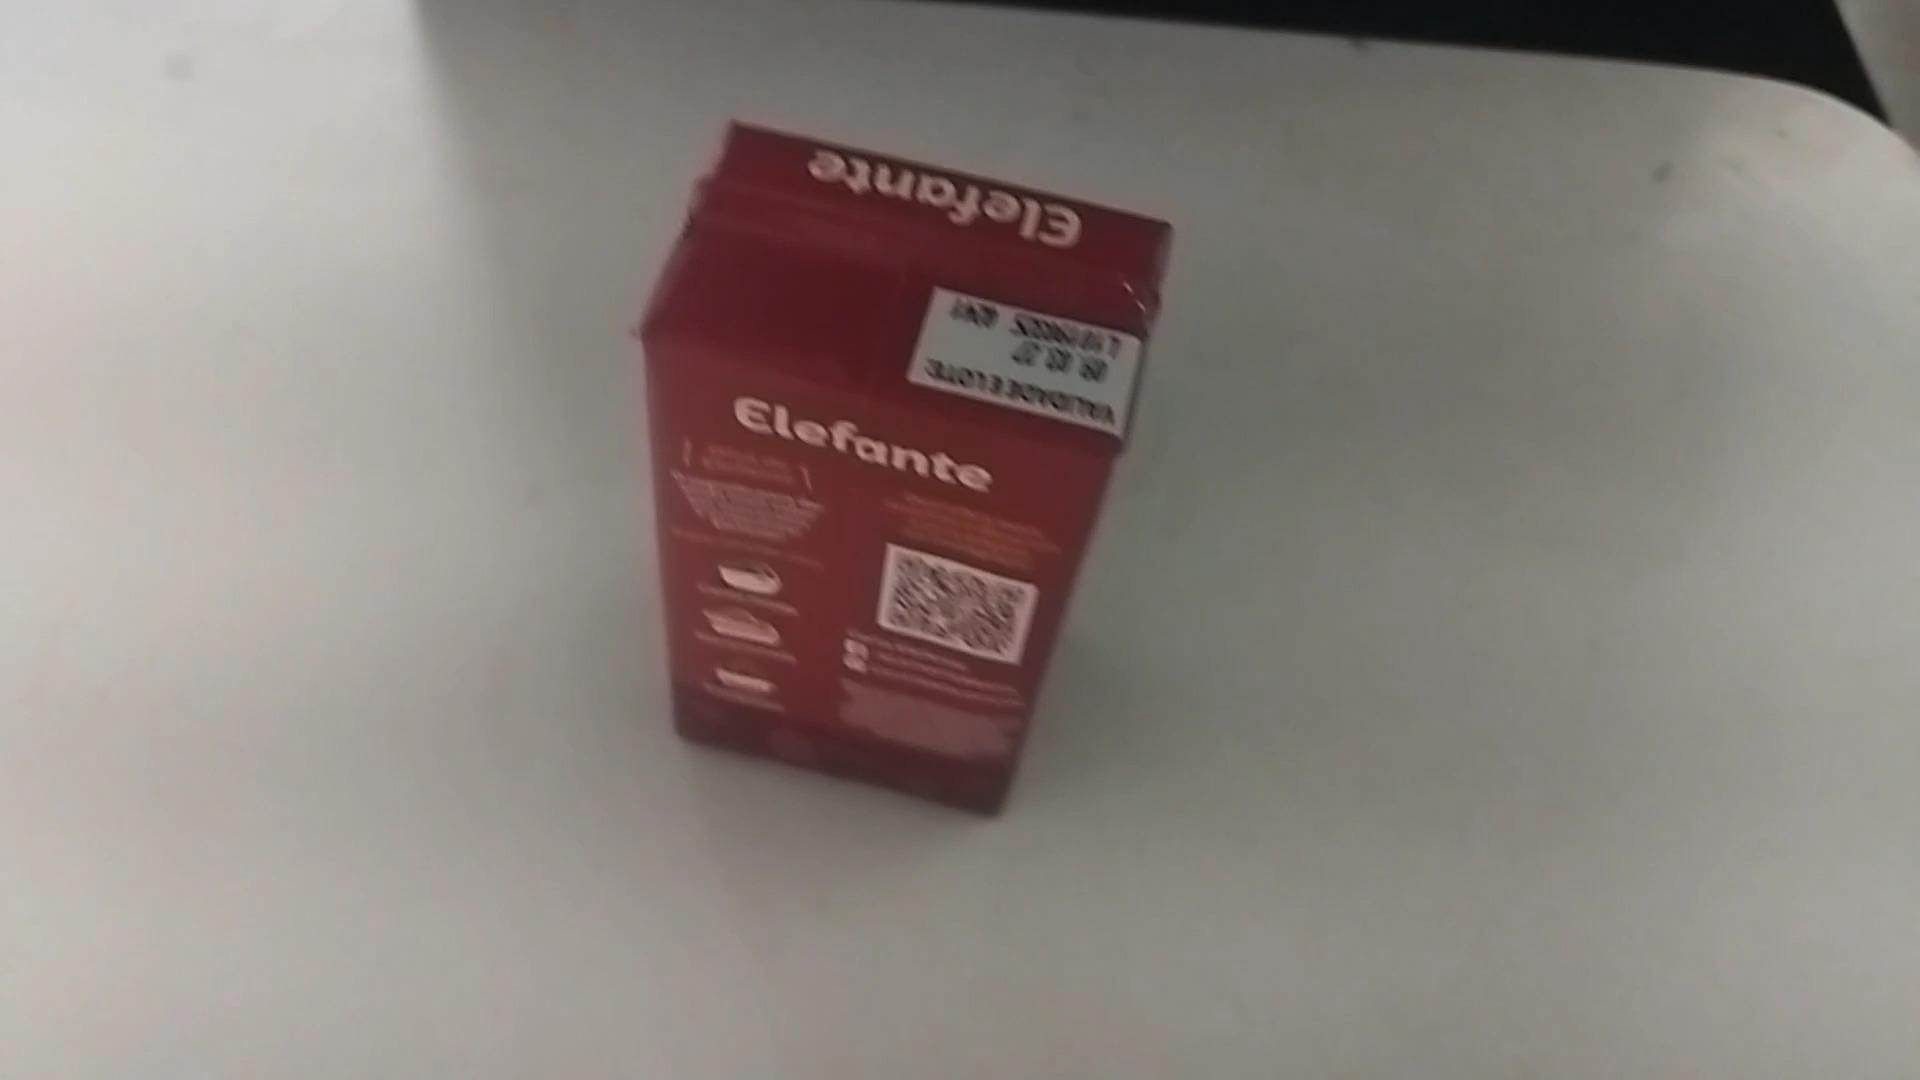tomate: (630, 113, 1200, 820)
